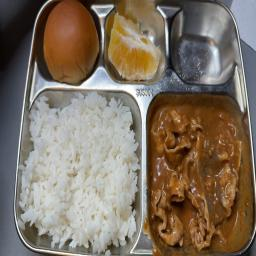100_beef: (148, 102, 244, 245)
100_bread: (41, 1, 98, 80)
100_orange: (106, 7, 163, 81)
100_rice: (24, 91, 139, 251)
empty: (176, 13, 229, 85)
